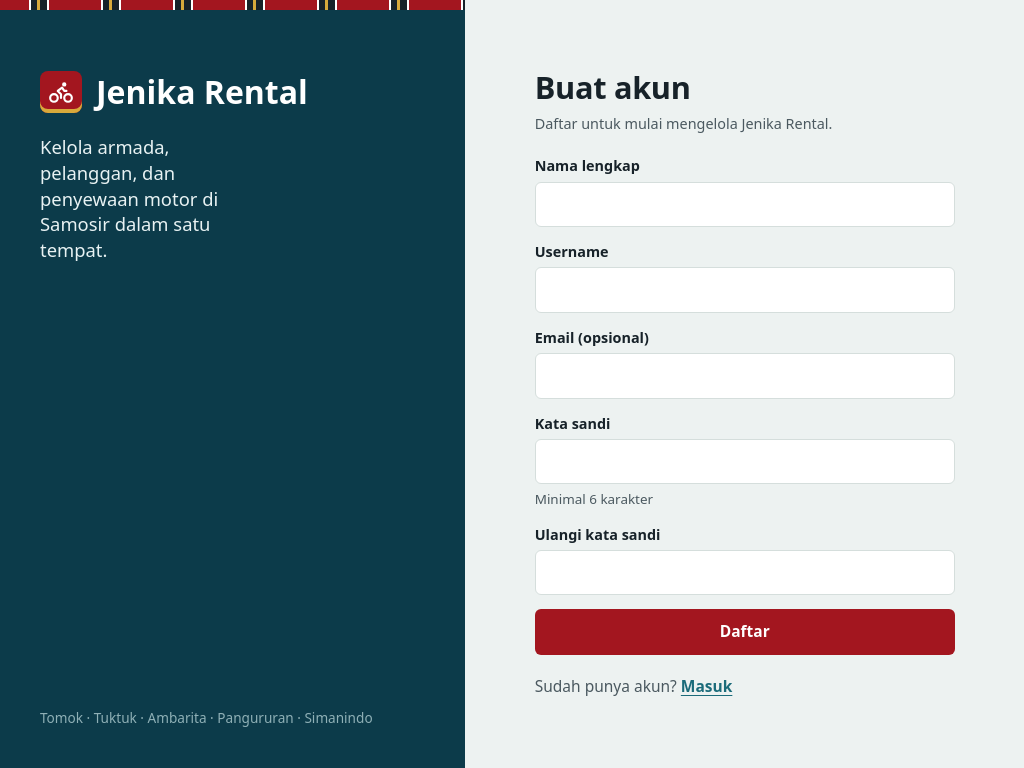
Test case: Register › username duplikat dari server tampil pada kolom username
Type "Dimas Sidabutar" into the field labelled "Nama lengkap". click: (745, 204)
box: [535, 182, 955, 227]
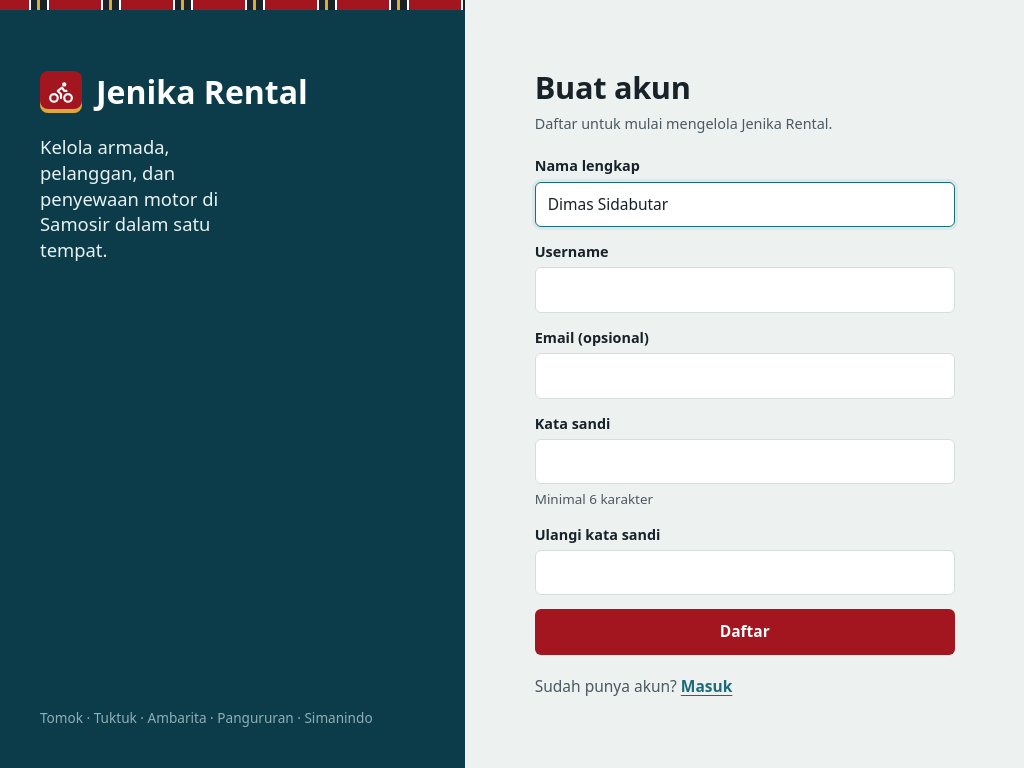
Type "dimas" into the field labelled "Username". click: (745, 290)
box: [535, 268, 955, 313]
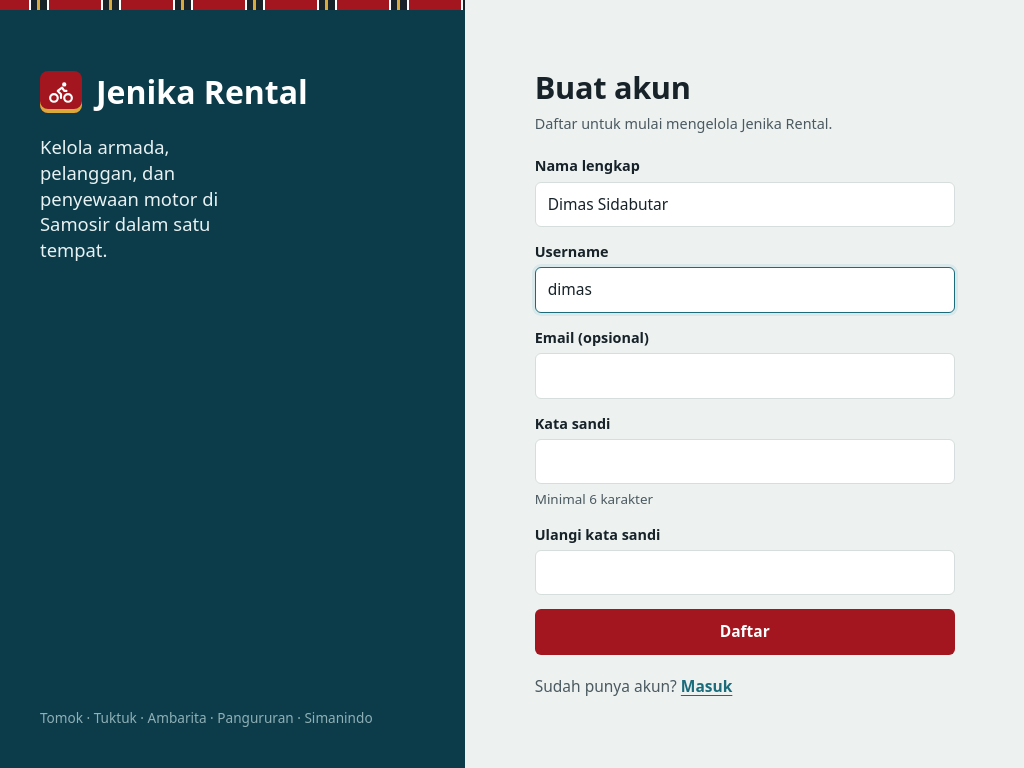
Type "rahasia123" into the password field labelled "Kata sandi". click: (745, 462)
box: [535, 439, 955, 484]
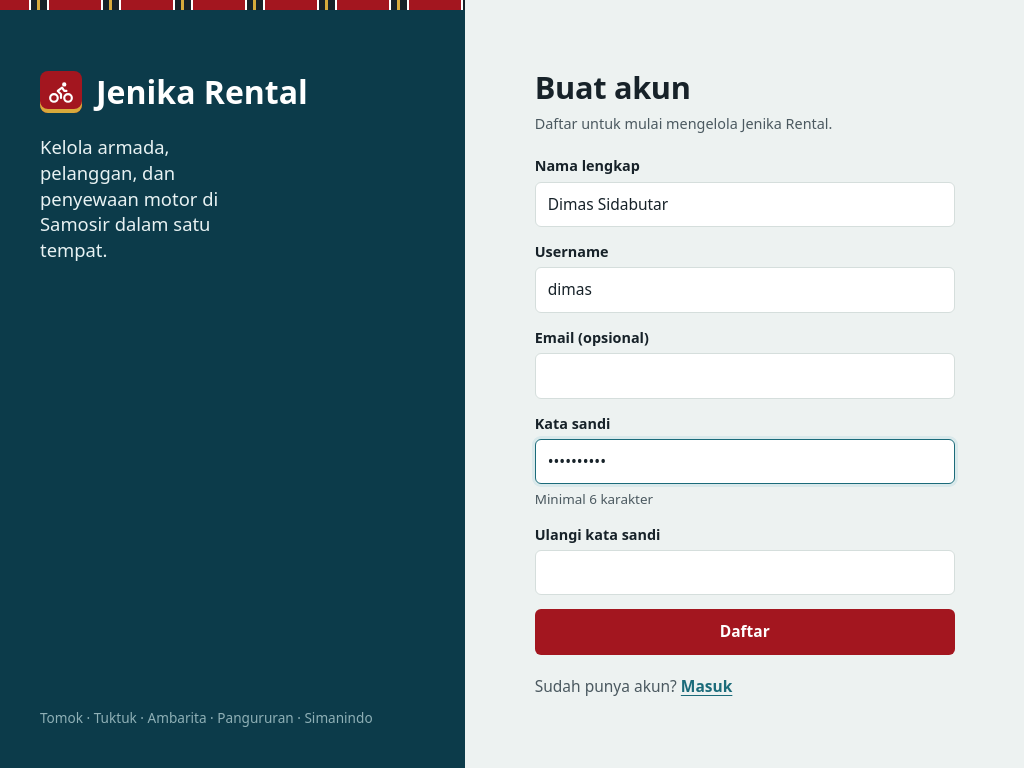
Type "rahasia123" into the password field labelled "Ulangi kata sandi". click: (745, 573)
box: [535, 550, 955, 596]
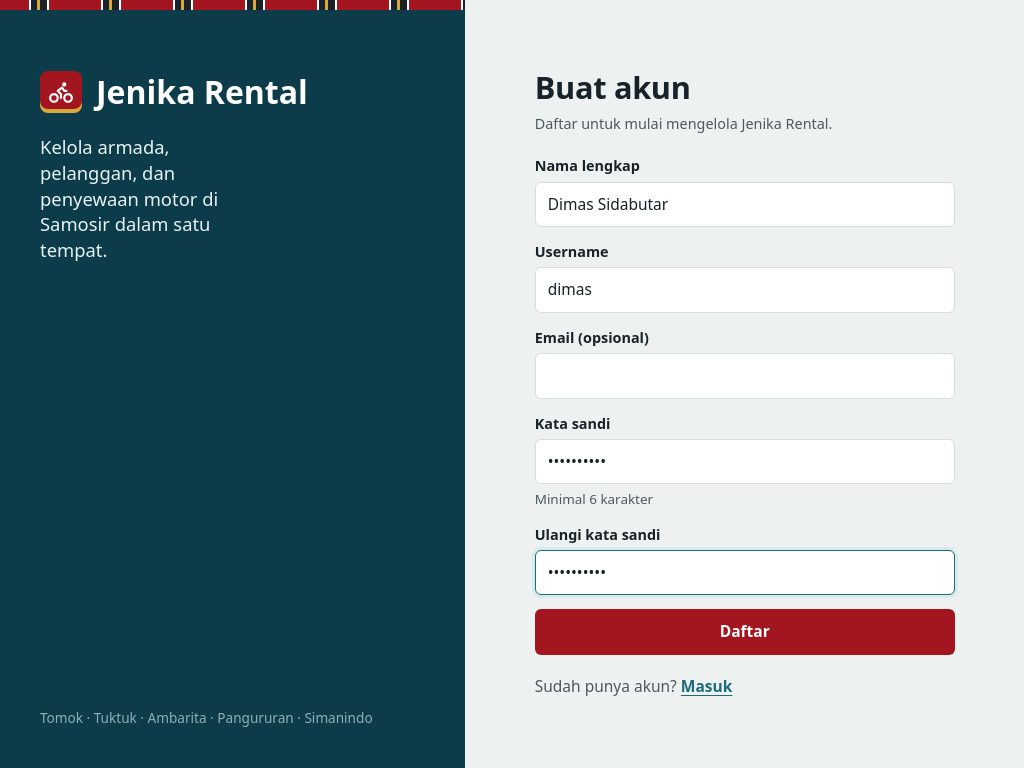
Click the button "Daftar". click: click(745, 632)
box: [535, 609, 955, 655]
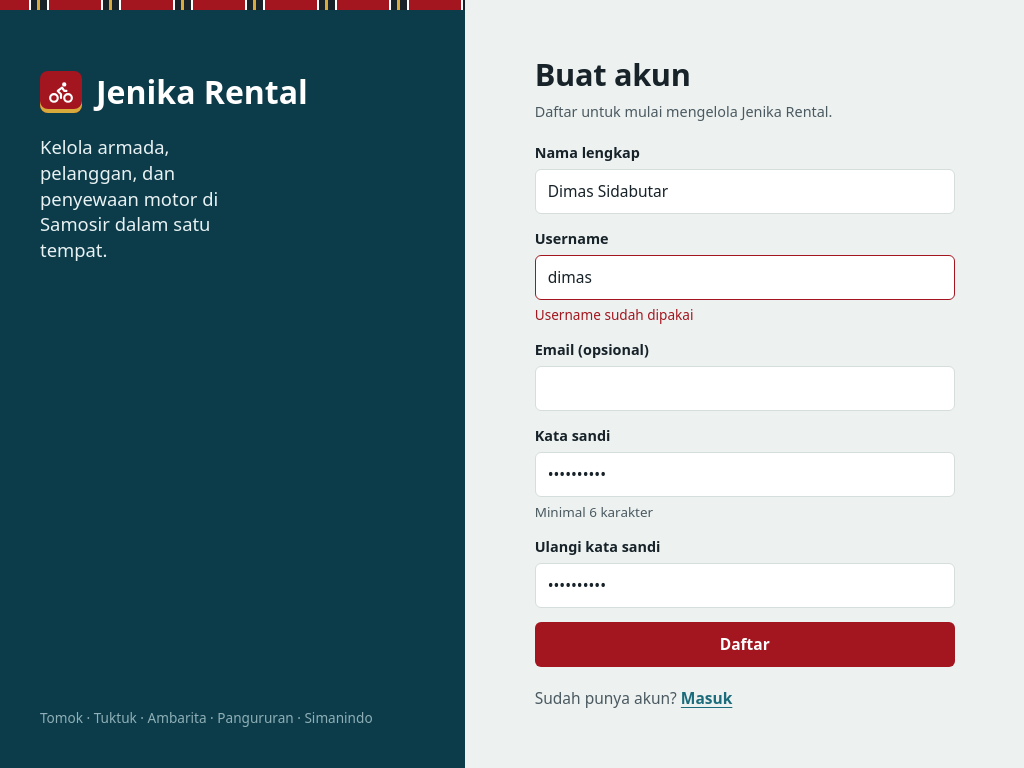
Expected: the text "Username sudah dipakai" is shown, [535, 305, 694, 324]
